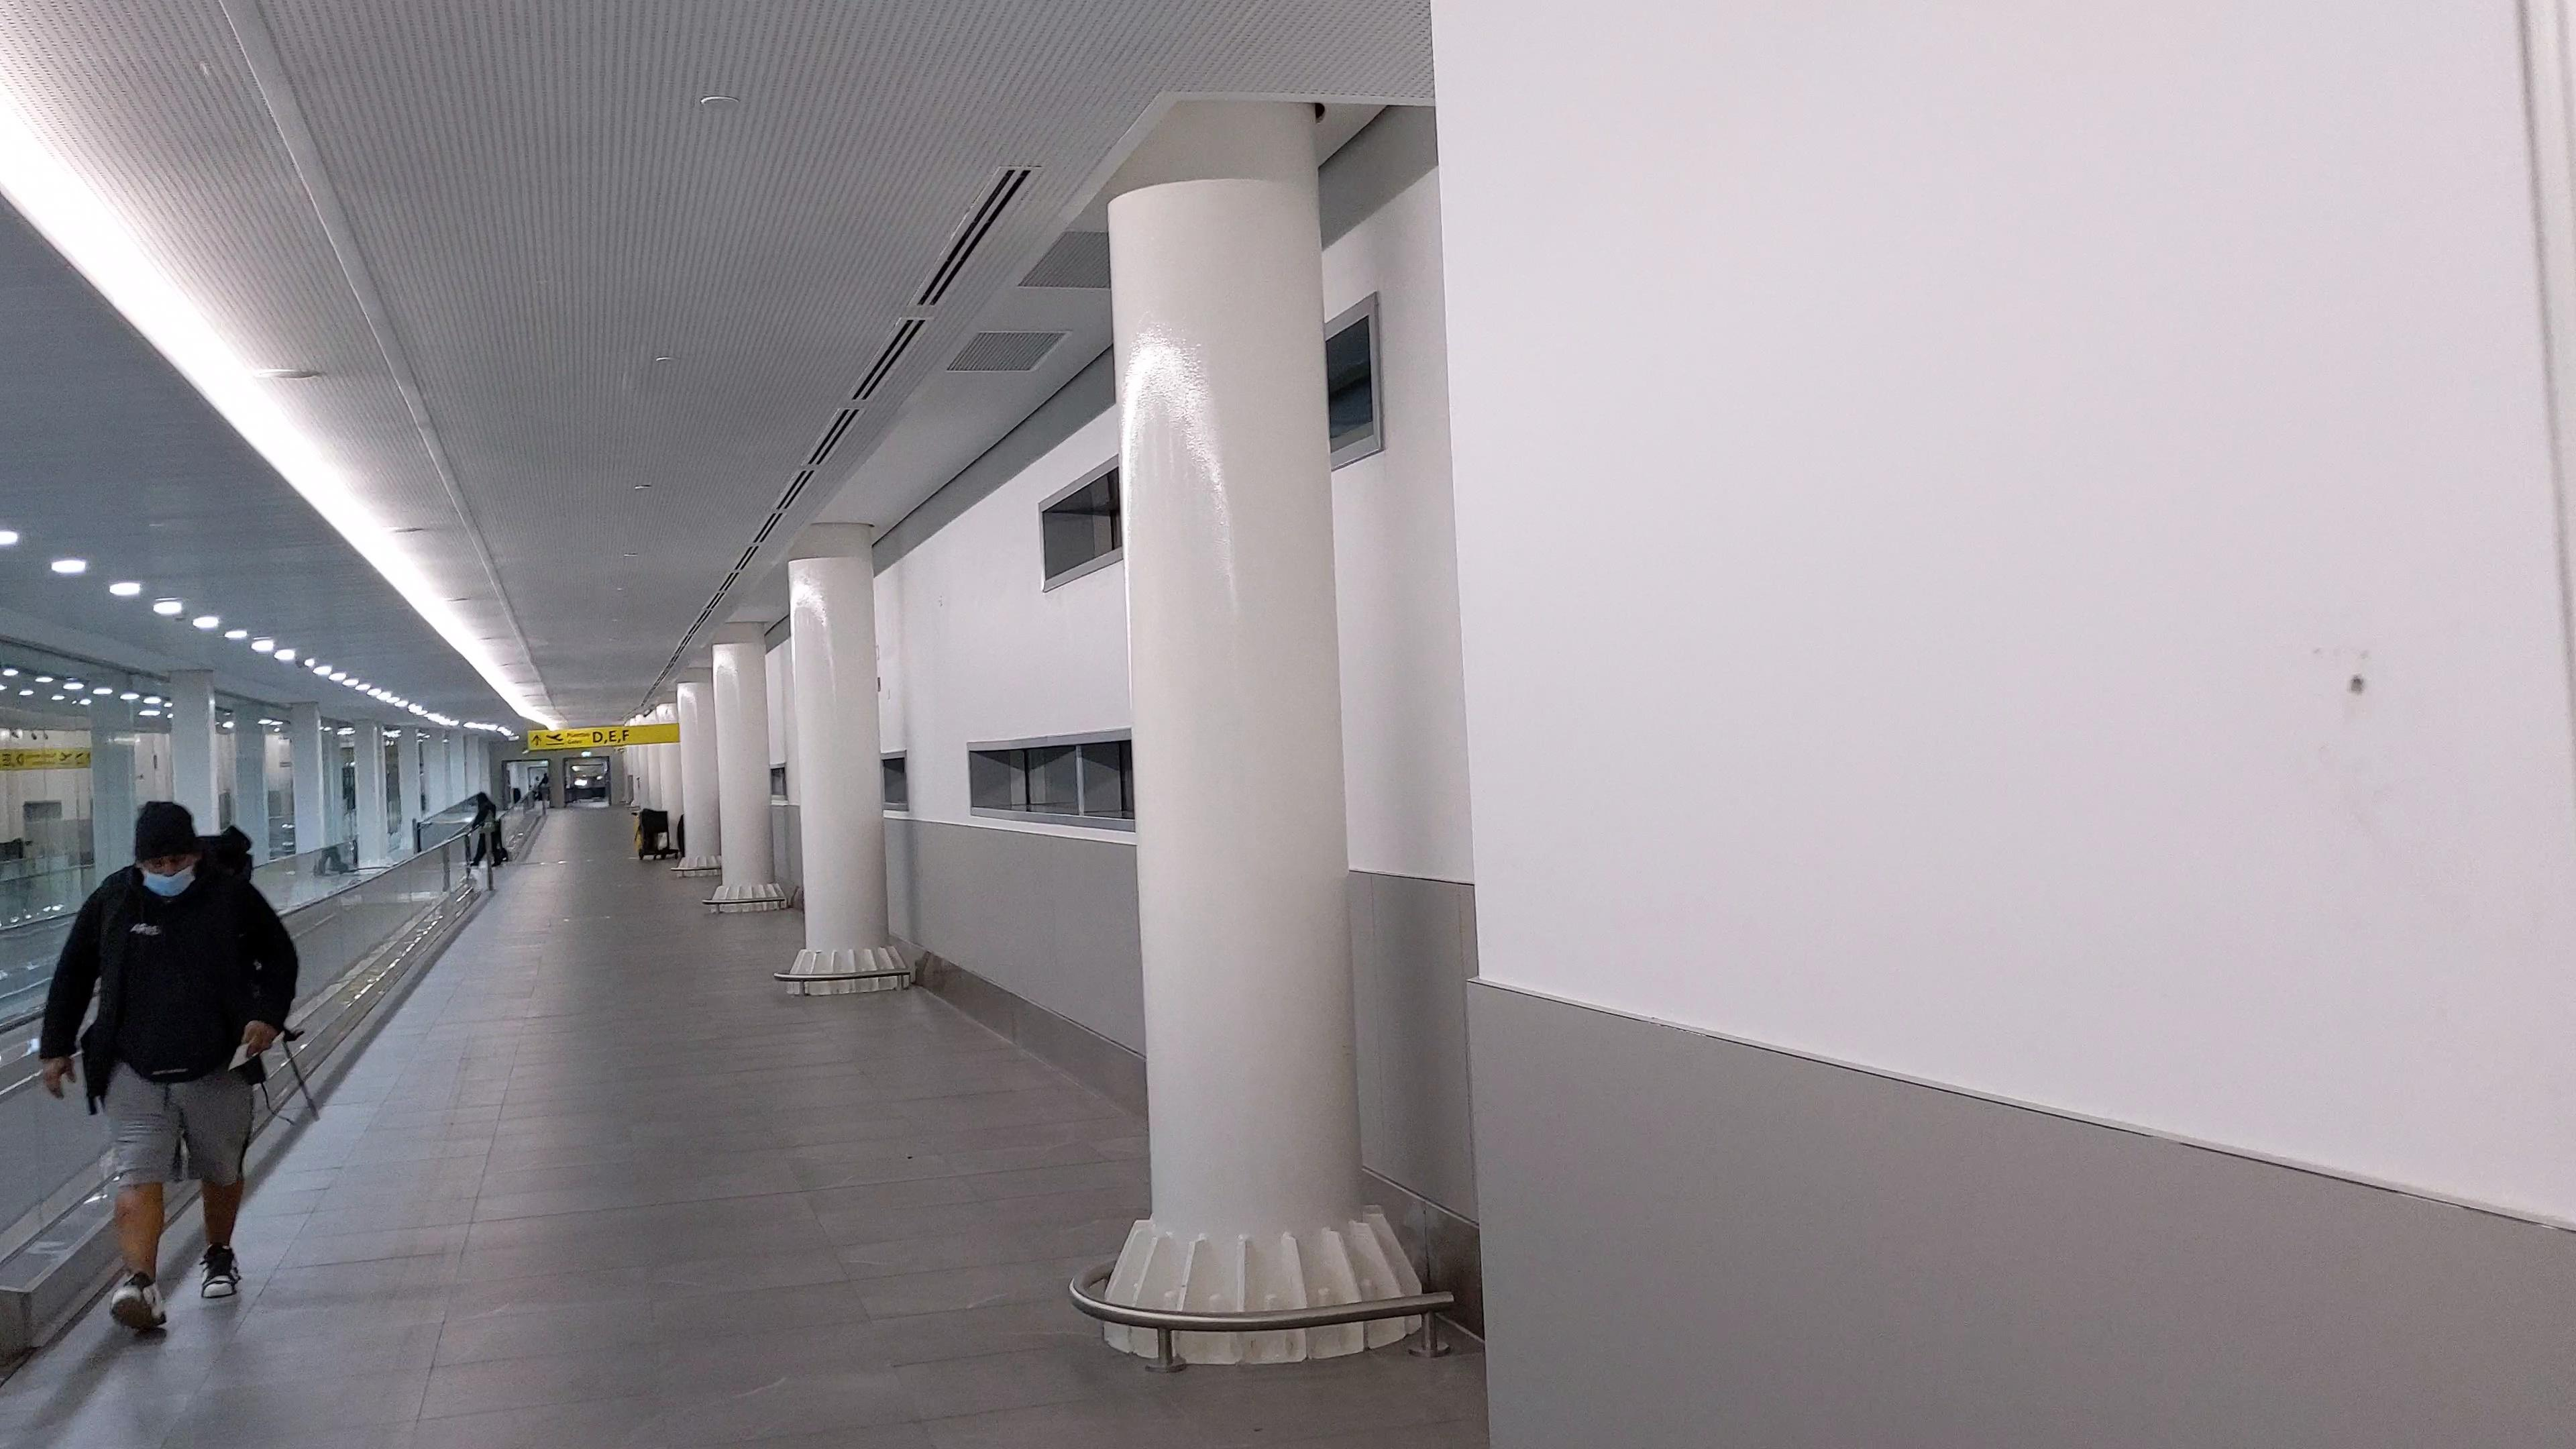airplane symbol: (545, 732, 566, 741), (58, 750, 73, 763)
thin up arrow: (533, 734, 541, 747)
